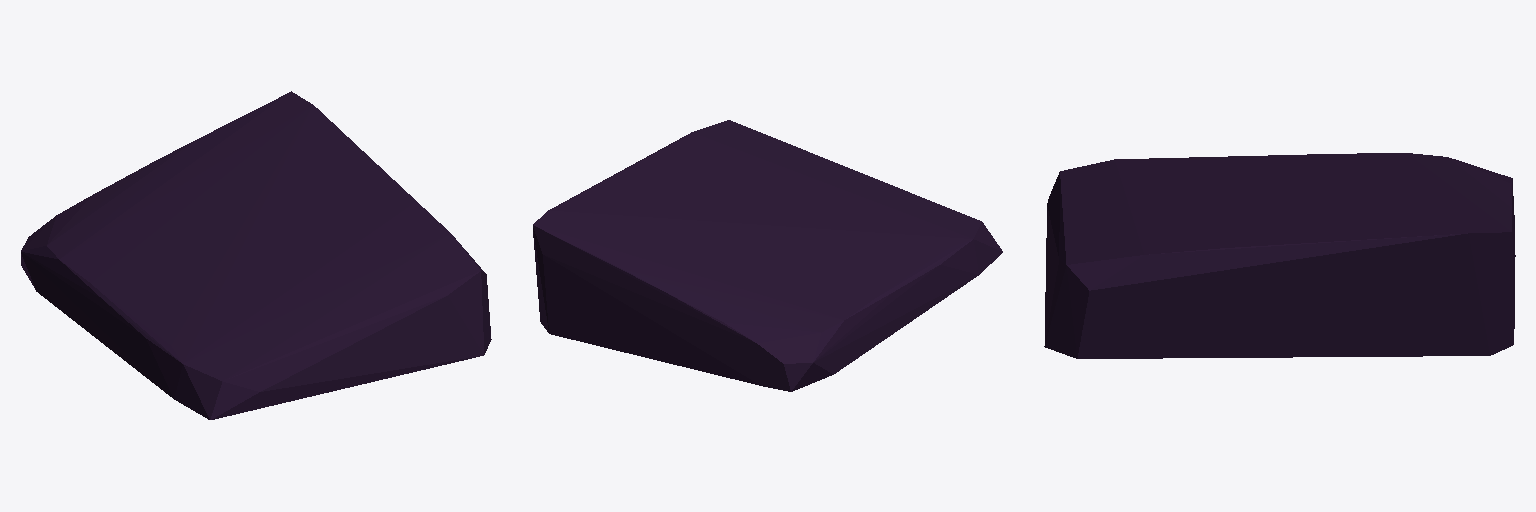
URDF robot description (obj_01):
<?xml version="1.0"?>
<robot name="obj_01">
  <!-- paperback book: paper, 139 g. Written by Darius 0.2.0. Link frame: +z up, origin at the capture-time bounding-box center; place it at the pose in world.json -->
  <mujoco>
    <compiler meshdir="../meshes/" discardvisual="true" balanceinertia="true" fusestatic="false" />
  </mujoco>
  <link name="obj_01">
    <inertial>
      <origin xyz="0.00681 0.0031 -0.00528" rpy="0 0 0" />
      <mass value="0.1394" />
      <inertia ixx="0.000134526" ixy="-2.16078e-06" ixz="-8.15134e-06" iyy="8.89887e-05" iyz="-4.39154e-06" izz="0.000210535" />
    </inertial>
    <visual>
      <geometry>
        <mesh filename="../meshes/obj_01_visual.obj" />
      </geometry>
      <material name="obj_01_color">
        <color rgba="0.204 0.133 0.243 1" />
      </material>
    </visual>
    <collision name="obj_01">
      <geometry>
        <mesh filename="../meshes/obj_01.obj" />
      </geometry>
    </collision>
    <contact>
      <lateral_friction value="0.5" />
      <restitution value="0.1" />
    </contact>
  </link>
</robot>

--- Render facts (derived) ---
Views: 3 orthographic renders of the robot side by side, from view 1: azimuth 30°, elevation 25°; view 2: azimuth 150°, elevation 25°; view 3: azimuth 270°, elevation 25°.
Model obj_01 with 1 links and 0 joints (none), rooted at obj_01, posed all joints at 0.
Visible links, largest first — view 1: obj_01; view 2: obj_01; view 3: obj_01.
Boxes of the visible links, left/top/right/bottom form: obj_01: left=21, top=91, right=491, bottom=419; obj_01: left=533, top=120, right=1002, bottom=391; obj_01: left=1044, top=153, right=1515, bottom=358.
Size in the robot's own frame: 0.091 by 0.1097 by 0.0316 metres.
Meshes: 1 distinct files referenced, 1 mesh visuals loaded (1 OBJ).
